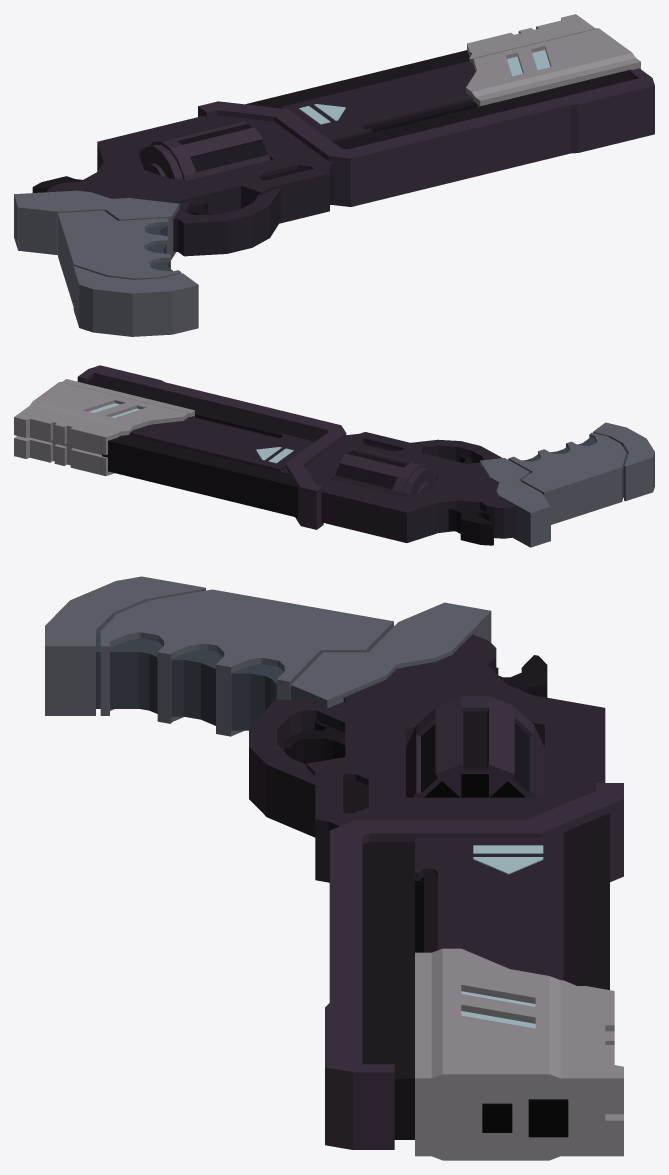
The picture shows the model from 3 angles, top to bottom: view 1: azimuth 30°, elevation 25°; view 2: azimuth 150°, elevation 25°; view 3: azimuth 270°, elevation 25°; orthographic projection. The views are drawn at different scales.
Visible parts, largest first — view 1: bf86de76-dc1e-2b60-8d7f-ae584dbcf7ed, da908908-e9b6-b3fc-a64b-f8f22fb8b1de, f270889f-459c-b99e-02a4-067fce782aec, 7e71c0e7-d606-6152-fb77-dad4491c4865, c11807df-7615-7347-b1ac-c8212cf98923, ab3552de-6154-bc65-6e6d-be2d462e7d5c, afda7078-62e0-9b5d-40f3-6b962525aacc, 83fe1f72-d41f-be4e-f2be-e1935295b91f, 1b142154-c378-6b1b-7f6e-c8750f8de76c, 7a86c8d2-2a28-f7a8-7d7a-931918d1c5ec, 7d67d3e7-c159-29ae-f964-6c7c0fff234f, fab30c24-47ca-29b2-3c94-e2aa0943a8a3 (+36 smaller); view 2: 7a86c8d2-2a28-f7a8-7d7a-931918d1c5ec, 40ec044a-2c1c-9910-3f35-4a070a87e887, da908908-e9b6-b3fc-a64b-f8f22fb8b1de, c11807df-7615-7347-b1ac-c8212cf98923, 38c6e60c-9f4c-dbf8-8222-1b4cc1d5ae35, 7e71c0e7-d606-6152-fb77-dad4491c4865, bf86de76-dc1e-2b60-8d7f-ae584dbcf7ed, 9782cbc2-721b-b537-0ae2-e767e80db2ad, f1bfb242-98e3-8bed-0358-f79c2fded57b, 43593e75-b862-962c-d797-93263d193ea2, dcc25fc6-3bc0-a04d-dbcb-1542cdb6b43a, 2e28ab58-47fa-bc11-be37-bfcc49fa71cb (+49 smaller); view 3: da908908-e9b6-b3fc-a64b-f8f22fb8b1de, 7e71c0e7-d606-6152-fb77-dad4491c4865, 2e28ab58-47fa-bc11-be37-bfcc49fa71cb, c11807df-7615-7347-b1ac-c8212cf98923, 7a86c8d2-2a28-f7a8-7d7a-931918d1c5ec, bf86de76-dc1e-2b60-8d7f-ae584dbcf7ed, ccb041a8-a9f0-be0f-953e-2cba5ff6b96a, 38c6e60c-9f4c-dbf8-8222-1b4cc1d5ae35, d6890816-75dd-24b0-5d03-9f333c9247c5, ab3552de-6154-bc65-6e6d-be2d462e7d5c, fab30c24-47ca-29b2-3c94-e2aa0943a8a3, f7cfa7fb-0650-8d83-eda6-e066d4f52139 (+64 smaller).
Boxes of the visible parts, bbox=[...] form: bf86de76-dc1e-2b60-8d7f-ae584dbcf7ed: bbox=[343, 78, 641, 206]; da908908-e9b6-b3fc-a64b-f8f22fb8b1de: bbox=[281, 61, 475, 126]; f270889f-459c-b99e-02a4-067fce782aec: bbox=[568, 78, 654, 152]; 7e71c0e7-d606-6152-fb77-dad4491c4865: bbox=[333, 69, 633, 149]; c11807df-7615-7347-b1ac-c8212cf98923: bbox=[58, 210, 117, 306]; ab3552de-6154-bc65-6e6d-be2d462e7d5c: bbox=[139, 166, 260, 214]; afda7078-62e0-9b5d-40f3-6b962525aacc: bbox=[259, 168, 329, 223]; 83fe1f72-d41f-be4e-f2be-e1935295b91f: bbox=[93, 276, 139, 336]; 1b142154-c378-6b1b-7f6e-c8750f8de76c: bbox=[128, 278, 172, 336]; 7a86c8d2-2a28-f7a8-7d7a-931918d1c5ec: bbox=[247, 50, 469, 108]; 7d67d3e7-c159-29ae-f964-6c7c0fff234f: bbox=[19, 198, 57, 254]; fab30c24-47ca-29b2-3c94-e2aa0943a8a3: bbox=[471, 58, 640, 106]; 7a86c8d2-2a28-f7a8-7d7a-931918d1c5ec: bbox=[102, 435, 296, 517]; 40ec044a-2c1c-9910-3f35-4a070a87e887: bbox=[102, 439, 297, 517]; da908908-e9b6-b3fc-a64b-f8f22fb8b1de: bbox=[129, 416, 308, 471]; c11807df-7615-7347-b1ac-c8212cf98923: bbox=[521, 456, 622, 524]; 38c6e60c-9f4c-dbf8-8222-1b4cc1d5ae35: bbox=[312, 476, 420, 542]; 7e71c0e7-d606-6152-fb77-dad4491c4865: bbox=[79, 377, 325, 441]; bf86de76-dc1e-2b60-8d7f-ae584dbcf7ed: bbox=[94, 367, 340, 433]; 9782cbc2-721b-b537-0ae2-e767e80db2ad: bbox=[499, 489, 550, 547]; f1bfb242-98e3-8bed-0358-f79c2fded57b: bbox=[389, 487, 452, 542]; 43593e75-b862-962c-d797-93263d193ea2: bbox=[433, 466, 498, 496]; dcc25fc6-3bc0-a04d-dbcb-1542cdb6b43a: bbox=[624, 457, 653, 501]; 2e28ab58-47fa-bc11-be37-bfcc49fa71cb: bbox=[35, 382, 100, 409]; da908908-e9b6-b3fc-a64b-f8f22fb8b1de: bbox=[438, 837, 563, 980]; 7e71c0e7-d606-6152-fb77-dad4491c4865: bbox=[362, 841, 414, 1139]; 2e28ab58-47fa-bc11-be37-bfcc49fa71cb: bbox=[442, 1033, 540, 1160]; c11807df-7615-7347-b1ac-c8212cf98923: bbox=[185, 589, 393, 652]; 7a86c8d2-2a28-f7a8-7d7a-931918d1c5ec: bbox=[563, 819, 609, 989]; bf86de76-dc1e-2b60-8d7f-ae584dbcf7ed: bbox=[329, 831, 362, 1027]; ccb041a8-a9f0-be0f-953e-2cba5ff6b96a: bbox=[442, 1027, 521, 1160]; 38c6e60c-9f4c-dbf8-8222-1b4cc1d5ae35: bbox=[545, 708, 605, 805]; d6890816-75dd-24b0-5d03-9f333c9247c5: bbox=[45, 625, 95, 715]; ab3552de-6154-bc65-6e6d-be2d462e7d5c: bbox=[345, 691, 405, 780]; fab30c24-47ca-29b2-3c94-e2aa0943a8a3: bbox=[415, 952, 442, 1156]; f7cfa7fb-0650-8d83-eda6-e066d4f52139: bbox=[368, 797, 554, 819].
Size of the model in its own units: 25.88 by 3 by 12.46.
1 material, 1 textured.
